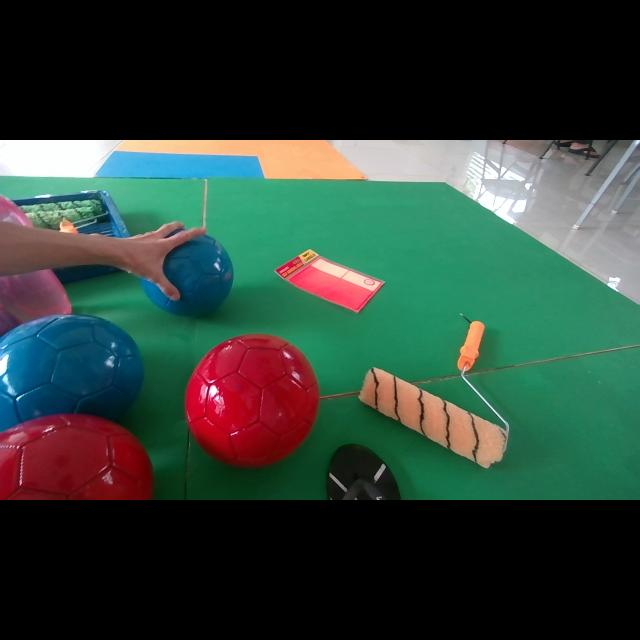B: (0, 315, 144, 431), (140, 235, 234, 316)
R: (185, 334, 319, 467), (0, 414, 154, 499)
